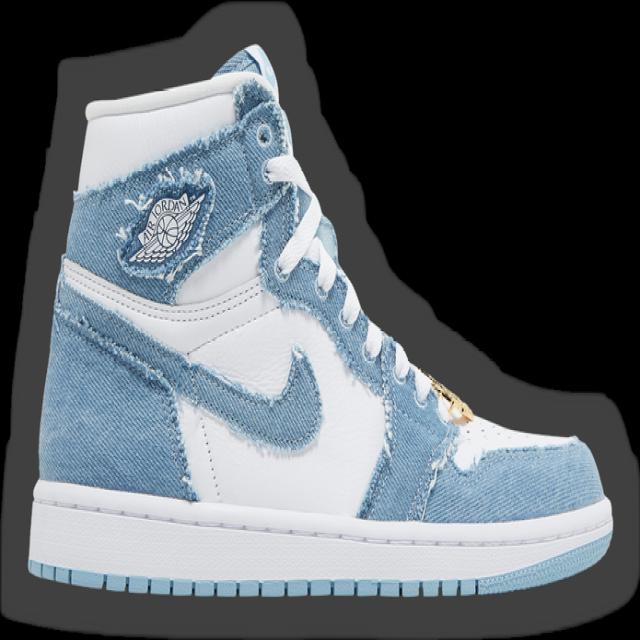J1_MateComp: (25, 42, 615, 599)
J1_ShoeLogo: (113, 165, 215, 281)
J1_StitchPattern: (213, 48, 475, 519), (50, 249, 475, 506), (24, 488, 615, 598), (264, 159, 475, 429), (52, 295, 199, 499), (308, 256, 474, 427), (356, 329, 475, 521), (25, 560, 483, 599), (410, 368, 475, 521), (421, 369, 475, 425), (193, 409, 224, 500)
